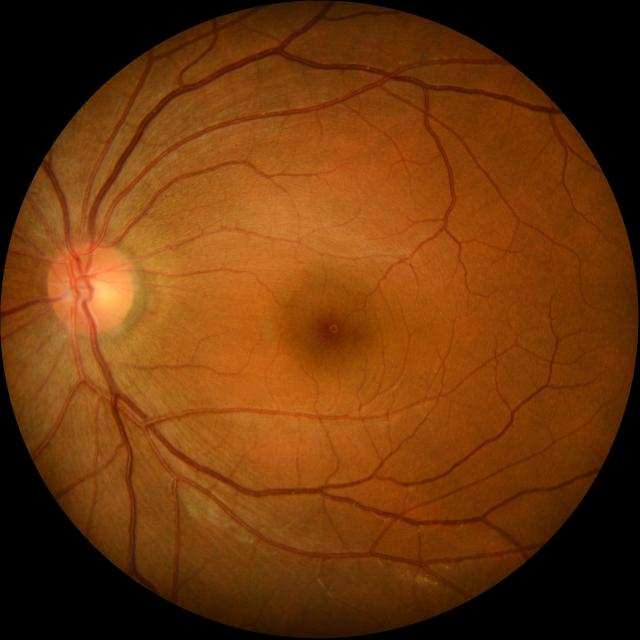OC: (83, 276, 107, 302)
OD: (47, 241, 134, 336)
